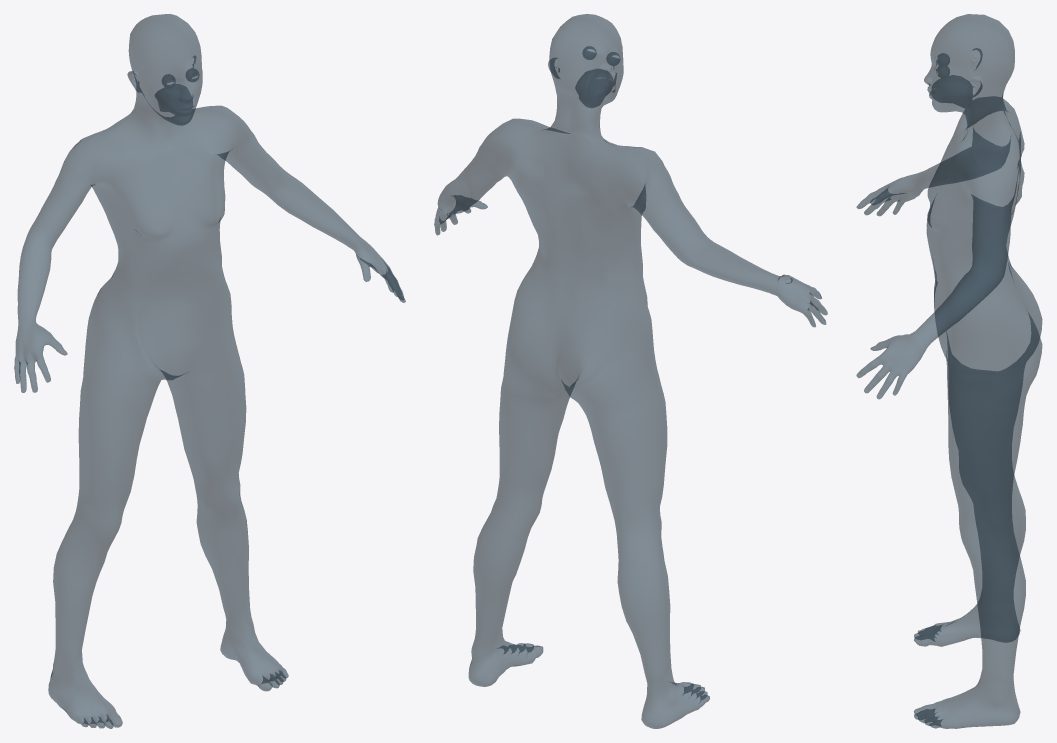
File: kushim-athletic-male.glb
3 views of the same model, side by side, from view 1: azimuth 30°, elevation 25°; view 2: azimuth 150°, elevation 25°; view 3: azimuth 270°, elevation 25° (orthographic).
Visible parts, largest first — view 1: KushimBody; view 2: KushimBody; view 3: KushimBody.
Part boxes in pixels (box(x1,y1,x2,y2)): KushimBody: box(14, 14, 405, 728); KushimBody: box(434, 14, 827, 728); KushimBody: box(856, 14, 1042, 728).
Bounding box in the file's own units: 0.9925 × 1.67 × 0.423.
